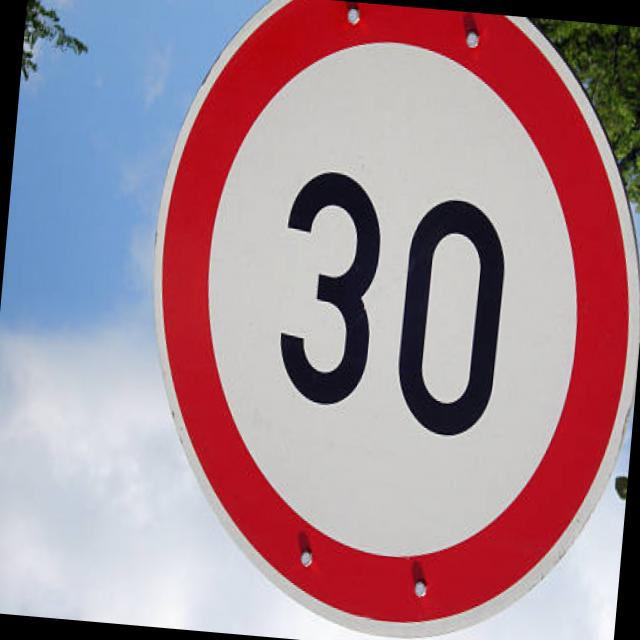speed_limit_30: (121, 0, 640, 640)
